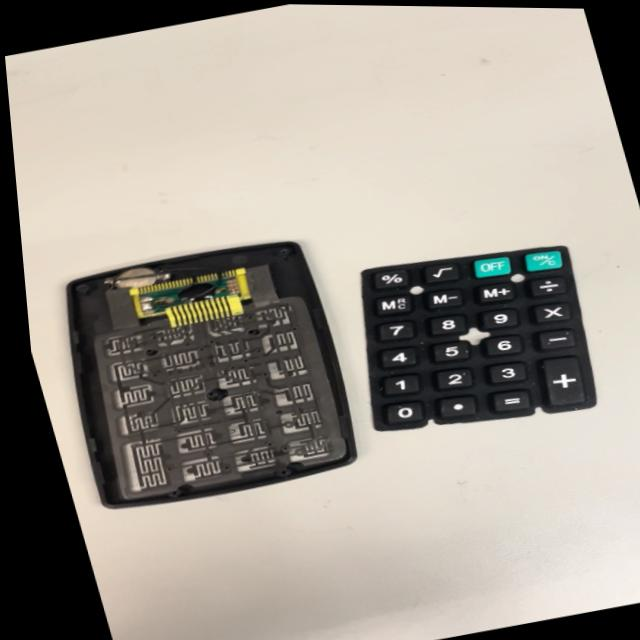front_panel: (20, 220, 388, 528)
number_pad: (327, 217, 623, 447)
